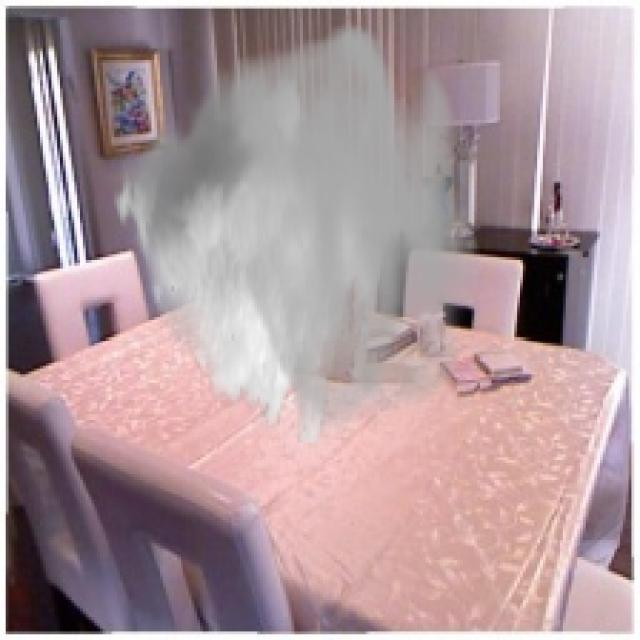smoke: (111, 17, 480, 443)
